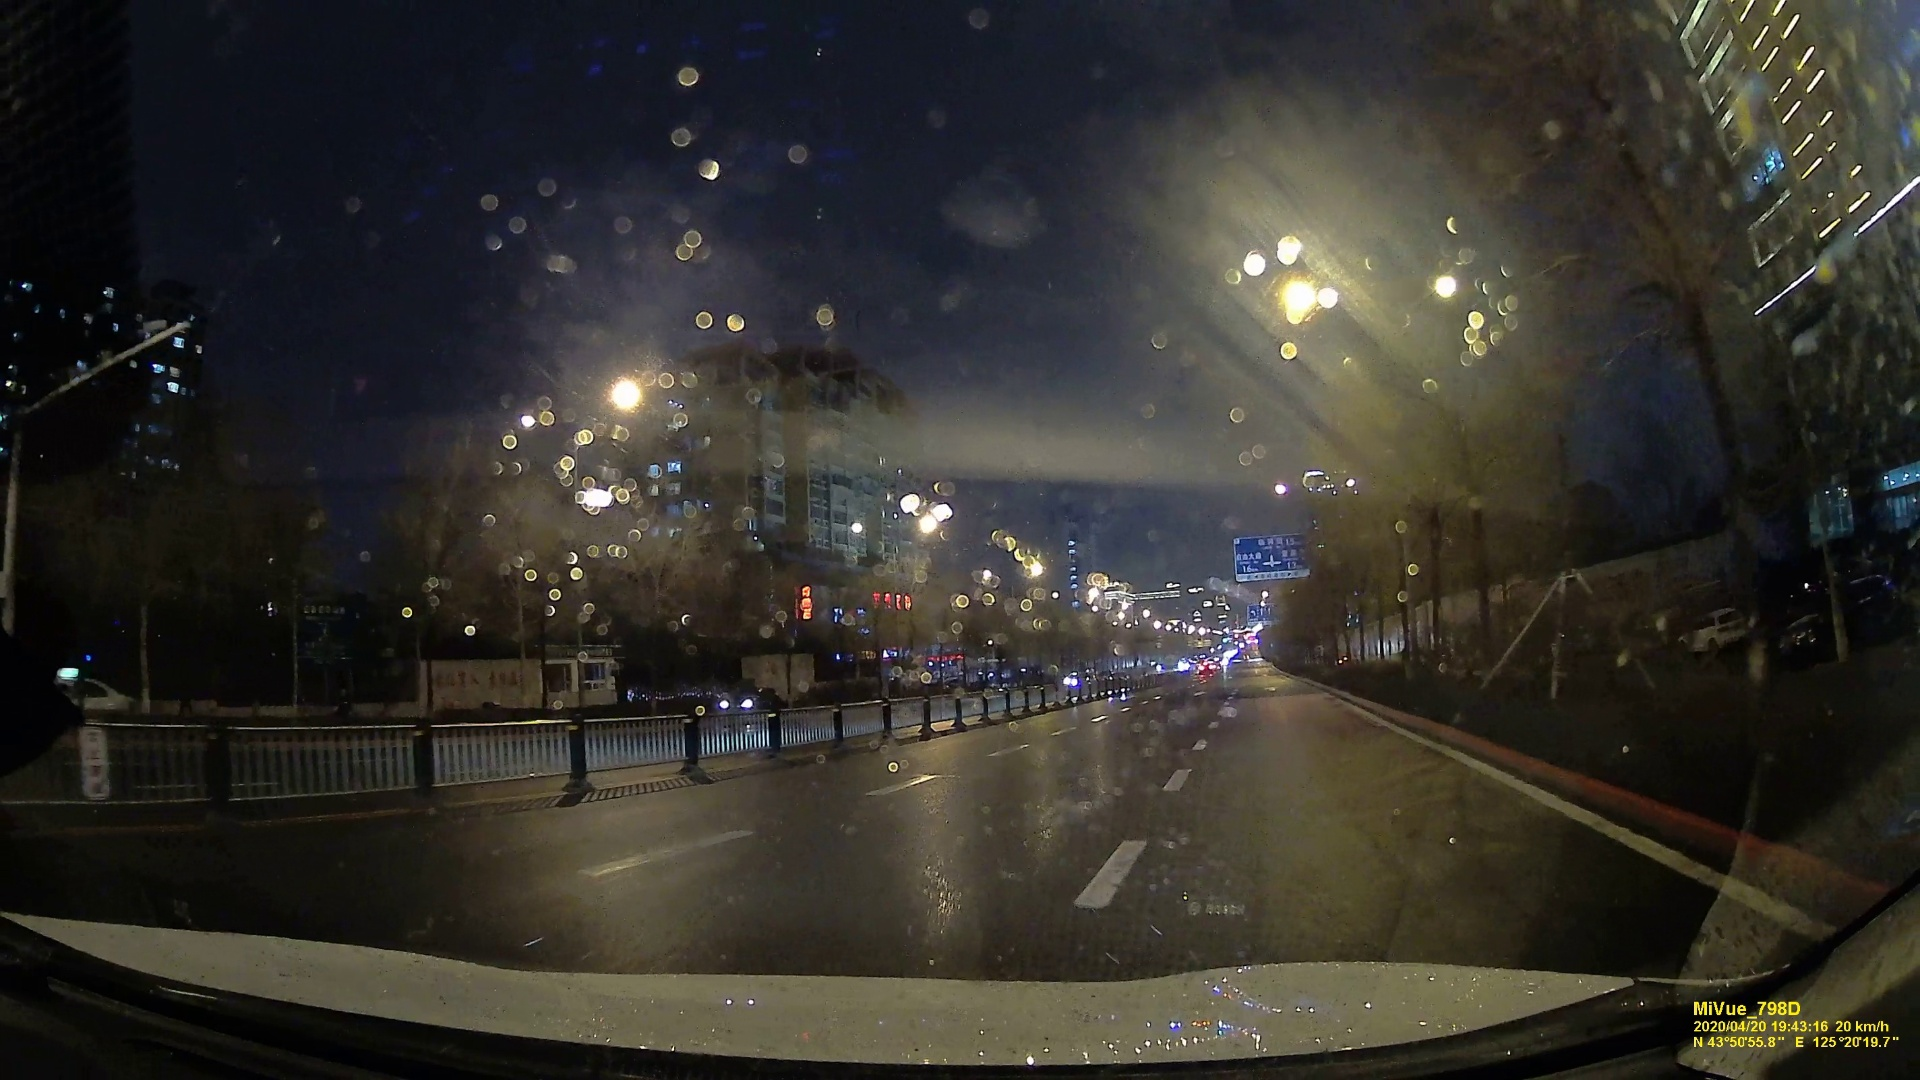traffic_sign: (1236, 537, 1305, 578), (1247, 605, 1280, 622)
